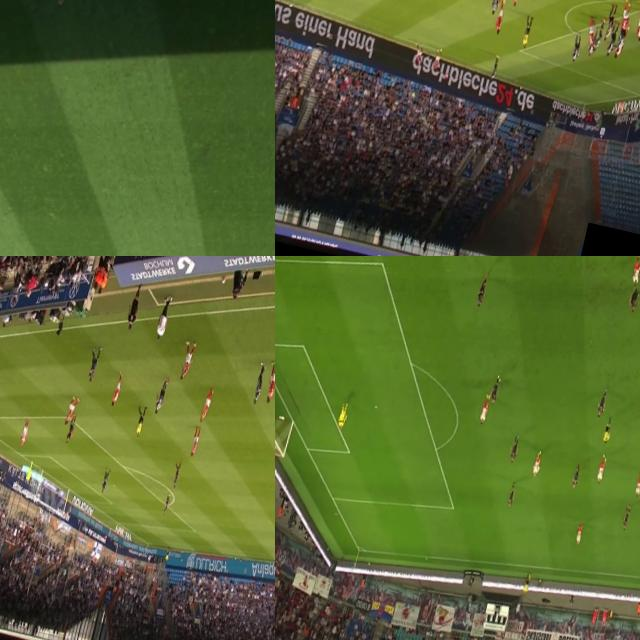ball: (438, 46, 443, 55)
player: (250, 358, 269, 408), (178, 341, 198, 383), (592, 388, 612, 424), (491, 0, 507, 39), (602, 4, 618, 41), (335, 396, 351, 432), (473, 274, 488, 311), (110, 374, 126, 408), (85, 347, 99, 385), (154, 379, 170, 412), (63, 394, 79, 426), (590, 20, 607, 50), (265, 357, 275, 403), (594, 452, 608, 484), (618, 502, 634, 530), (478, 393, 491, 427), (504, 478, 518, 509), (16, 421, 32, 448), (619, 0, 632, 33), (568, 36, 582, 66), (614, 24, 628, 54), (188, 428, 202, 458), (614, 27, 626, 61), (200, 387, 212, 421), (570, 462, 584, 491), (603, 28, 618, 55), (530, 450, 543, 481), (572, 520, 586, 548), (64, 414, 77, 444), (628, 280, 640, 312), (412, 43, 425, 68), (488, 0, 506, 16), (631, 256, 640, 287), (632, 467, 640, 501), (170, 462, 180, 488), (586, 19, 596, 44), (488, 59, 498, 84), (586, 31, 596, 56), (23, 462, 34, 484), (510, 438, 520, 462), (634, 5, 640, 40), (432, 50, 443, 69), (491, 378, 500, 400), (100, 471, 108, 493), (636, 13, 640, 54), (162, 494, 168, 513)
